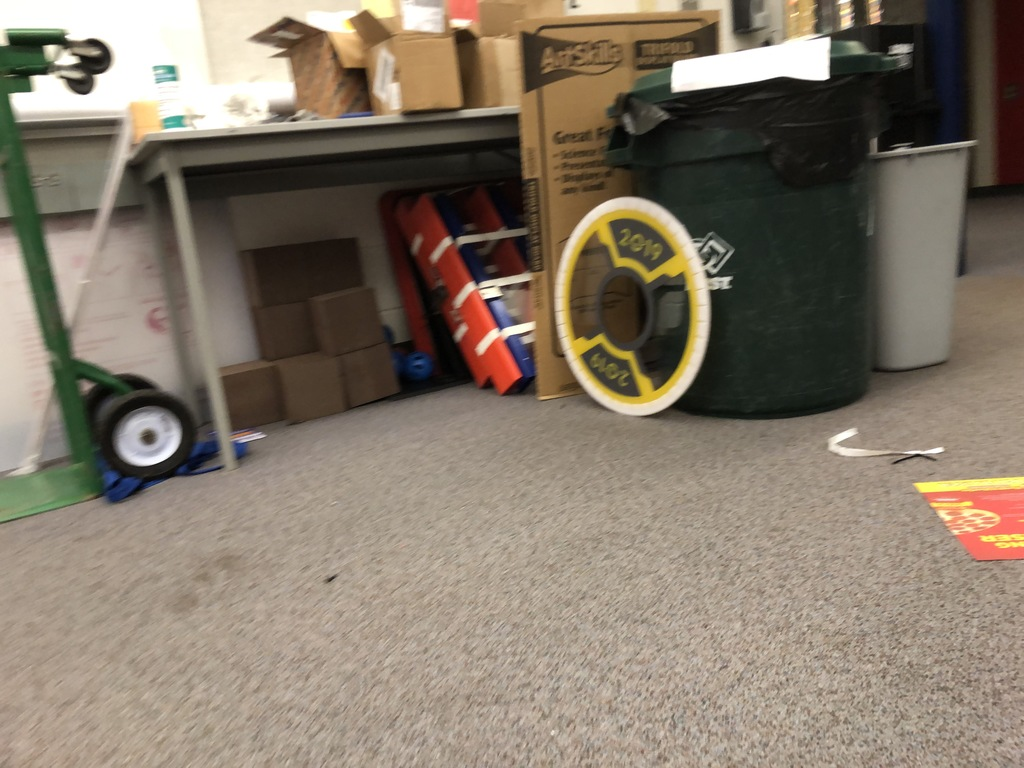hatch_panel: (548, 177, 724, 442)
